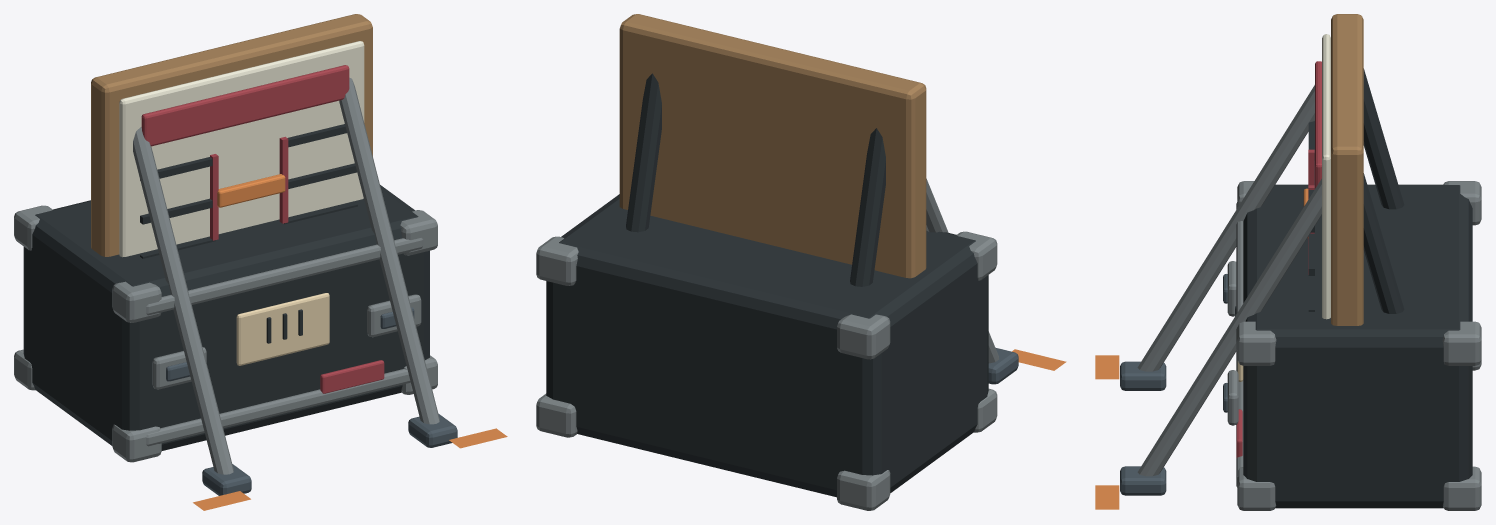
Rendered from city-guide-prom.glb.
3 renders of one model, left to right at view 1: azimuth 30°, elevation 25°; view 2: azimuth 150°, elevation 25°; view 3: azimuth 270°, elevation 25°, orthographic. The views are drawn at different scales.
Parts seen in each view (by area): view 1: Label ink stroke, Ring tournament grid paper, Extruded aluminium edge, Folded support.003, Ring tournament grid backing, Bracket spine, Scuffed touring label, Bracket pairing, Bracket winner cell, Rubber foot.003, Old red tape, Open handle grip; view 2: Label ink stroke, Ring tournament grid backing, Extruded aluminium edge, Bracket pairing, Folded support.003, Rubber foot.003; view 3: Label ink stroke, Folded support.003, Ring tournament grid backing, Extruded aluminium edge, Bracket pairing, Ring tournament grid paper, Rubber foot.003, Bracket winner cell, Bracket spine.
Part boxes in pixels (x1,y1,x2,y2): Label ink stroke: [23, 185, 429, 450]; Ring tournament grid paper: [119, 41, 364, 257]; Extruded aluminium edge: [14, 205, 437, 462]; Folded support.003: [133, 77, 439, 474]; Ring tournament grid backing: [91, 14, 372, 256]; Bracket spine: [141, 65, 349, 240]; Scuffed touring label: [236, 293, 329, 365]; Bracket pairing: [140, 124, 357, 258]; Bracket winner cell: [193, 174, 507, 510]; Rubber foot.003: [202, 413, 457, 495]; Old red tape: [320, 360, 384, 393]; Open handle grip: [166, 307, 414, 381]; Label ink stroke: [546, 194, 988, 497]; Ring tournament grid backing: [619, 14, 926, 278]; Extruded aluminium edge: [536, 231, 997, 510]; Bracket pairing: [626, 73, 885, 286]; Folded support.003: [926, 178, 998, 363]; Rubber foot.003: [988, 347, 1018, 384]; Label ink stroke: [1235, 184, 1472, 508]; Folded support.003: [1137, 85, 1321, 476]; Ring tournament grid backing: [1331, 14, 1363, 325]; Extruded aluminium edge: [1227, 181, 1481, 510]; Bracket pairing: [1308, 68, 1404, 313]; Ring tournament grid paper: [1322, 34, 1330, 319]; Rubber foot.003: [1120, 361, 1166, 495]; Bracket winner cell: [1095, 188, 1308, 509]; Bracket spine: [1308, 61, 1321, 274].
Size of the model in its own units: 1.05 by 1.1 by 1.08.
